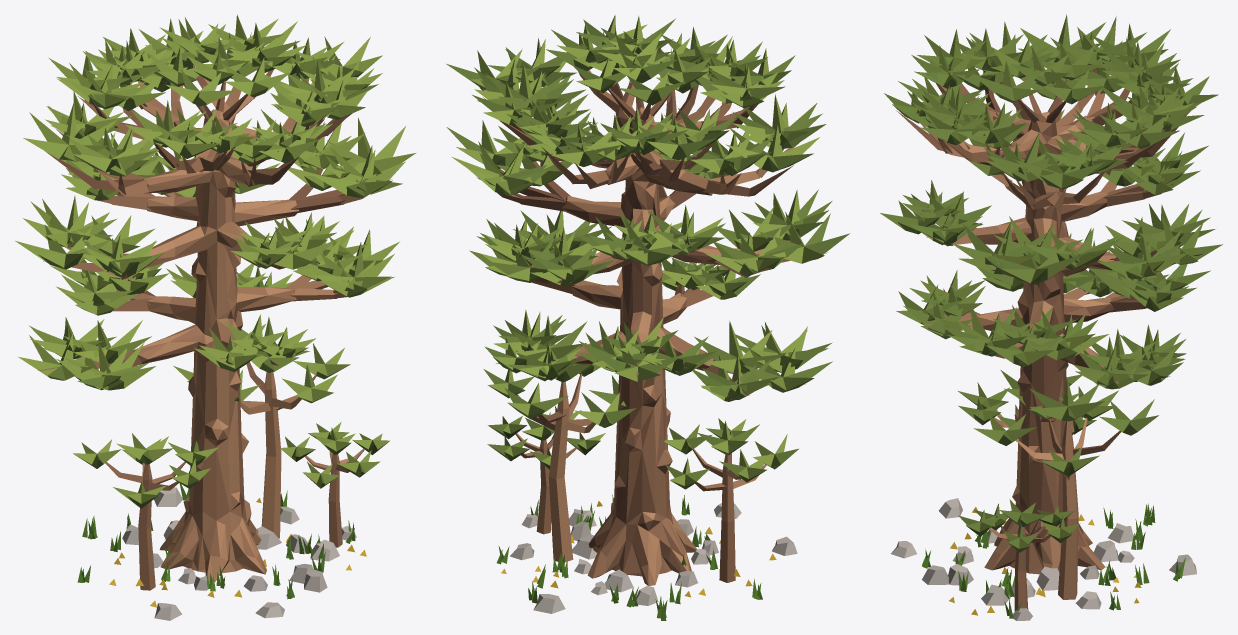
Rendered from giant_araucaria_bloom.glb.
3 views of the same model, side by side, from view 1: azimuth 30°, elevation 25°; view 2: azimuth 150°, elevation 25°; view 3: azimuth 270°, elevation 25° (orthographic).
Parts seen in each view (by area): view 1: giant_araucaria_bloom; view 2: giant_araucaria_bloom; view 3: giant_araucaria_bloom.
Boxes of the visible parts, bbox=[...] form: giant_araucaria_bloom: bbox=[15, 14, 415, 620]; giant_araucaria_bloom: bbox=[446, 15, 849, 620]; giant_araucaria_bloom: bbox=[880, 14, 1222, 620].
Bounding box in the file's own units: 28.88 × 36.24 × 22.39.
